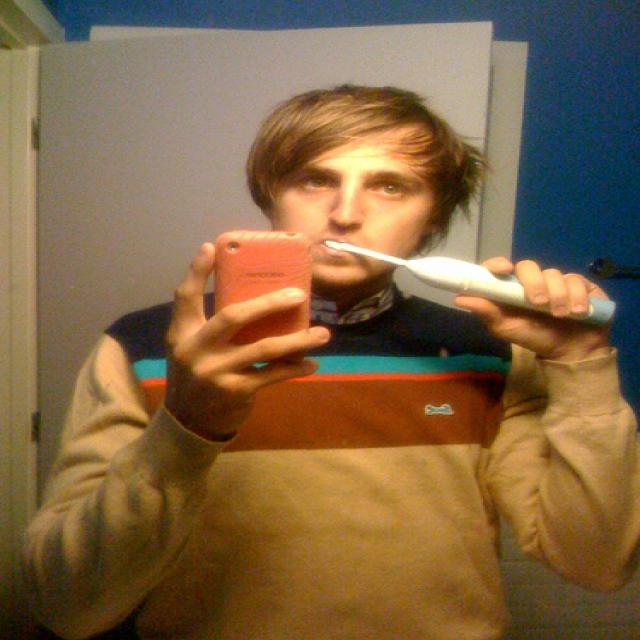phone: (205, 230, 318, 363)
